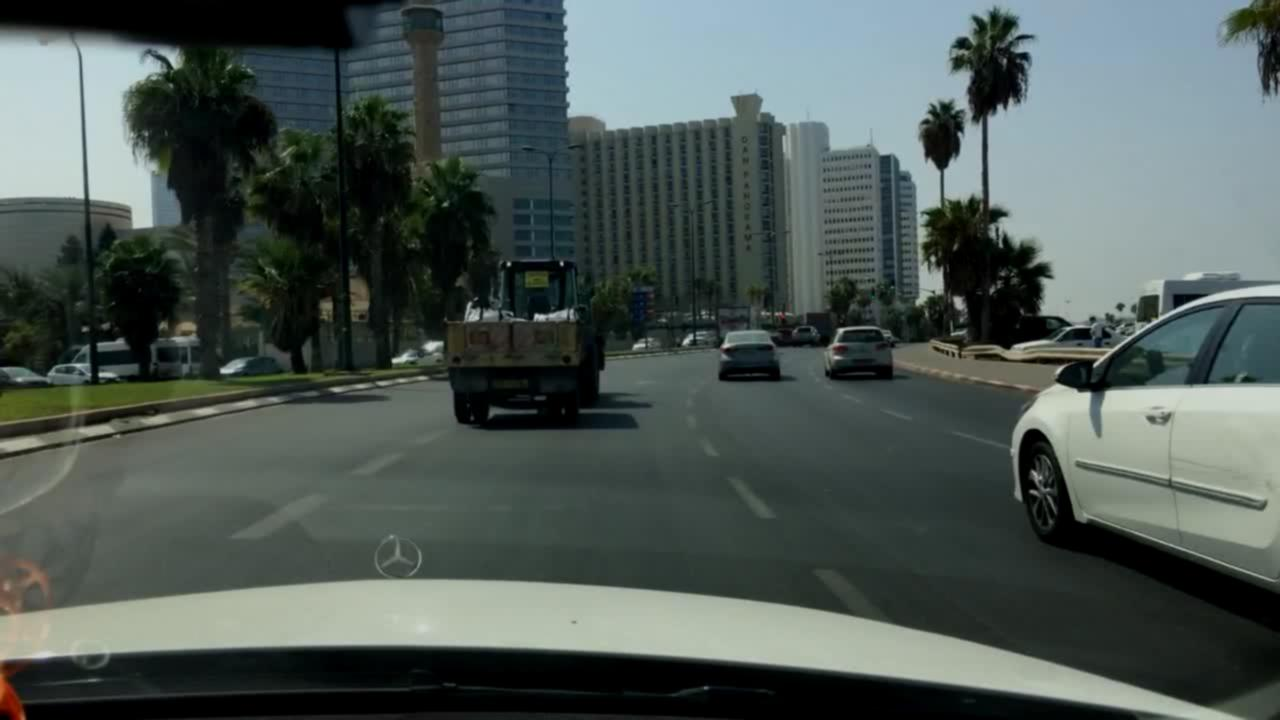Mercedes: (361, 519, 445, 588)
